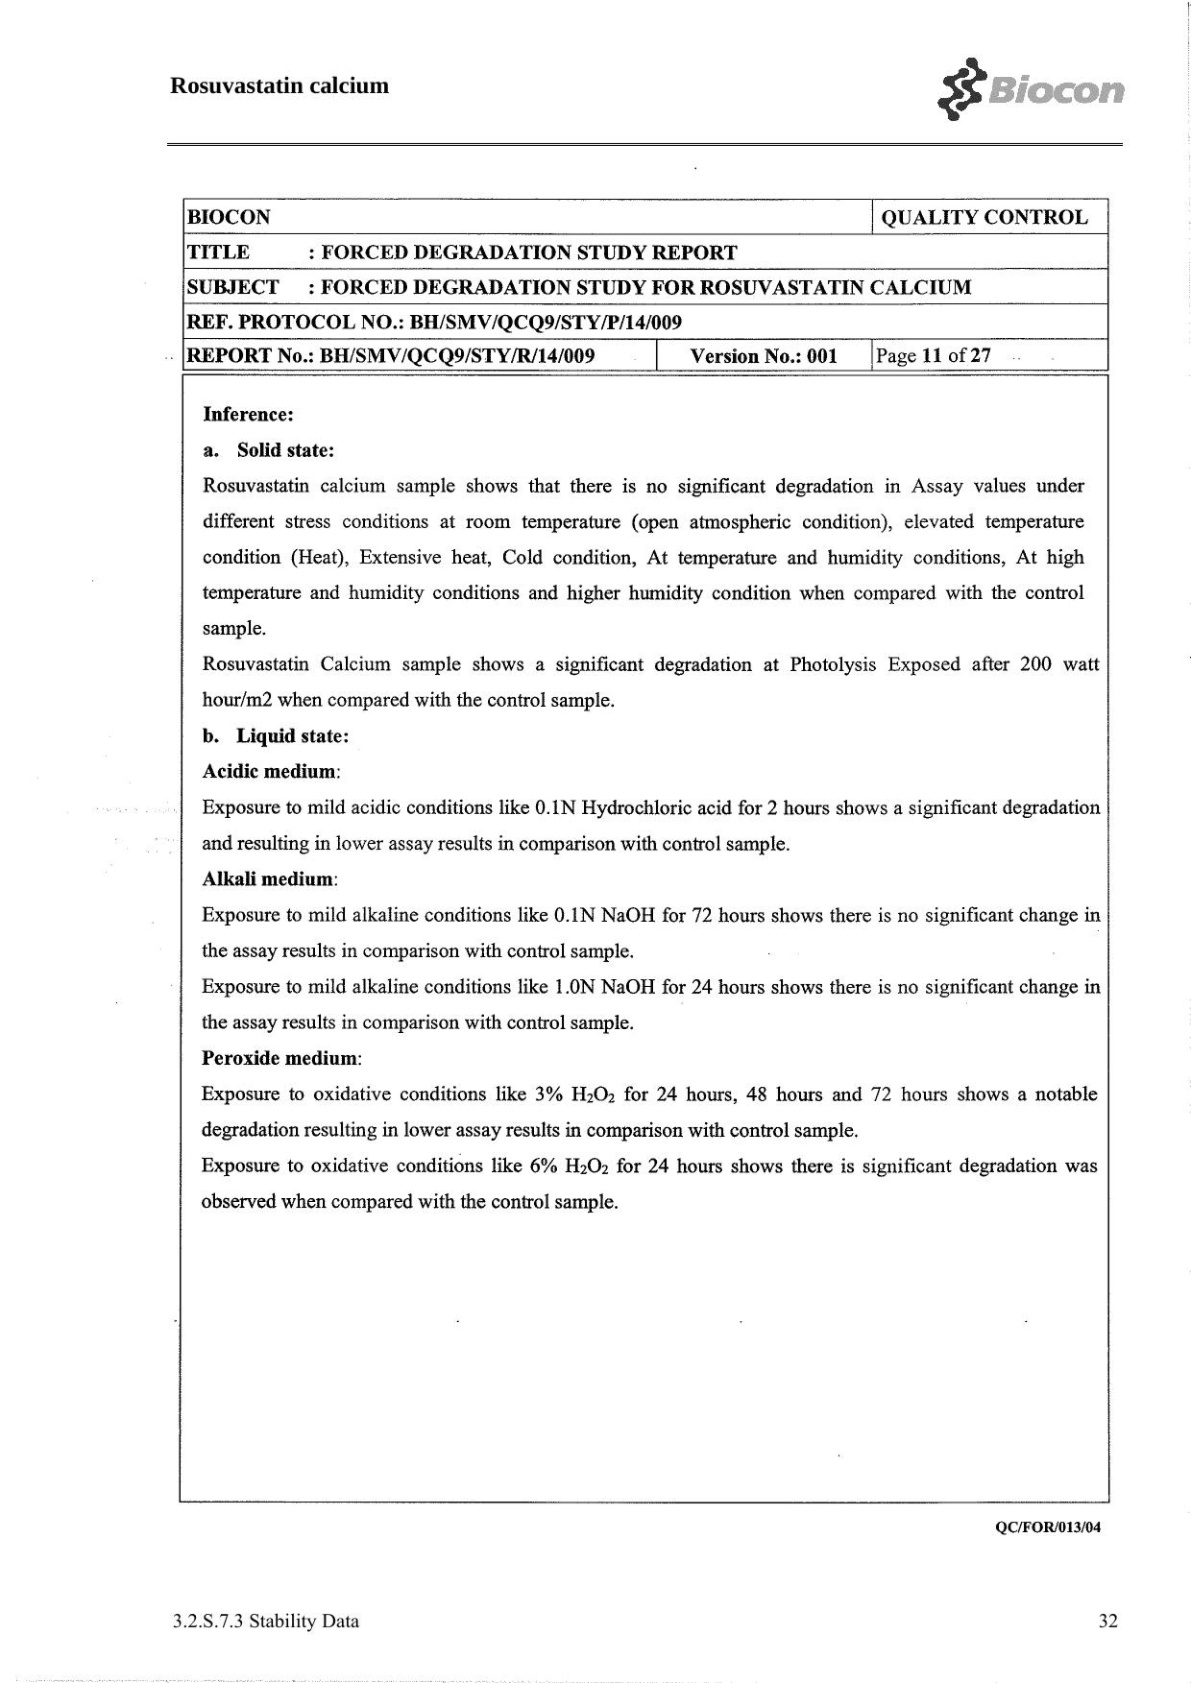merged_cells: (182, 197, 1110, 371)
